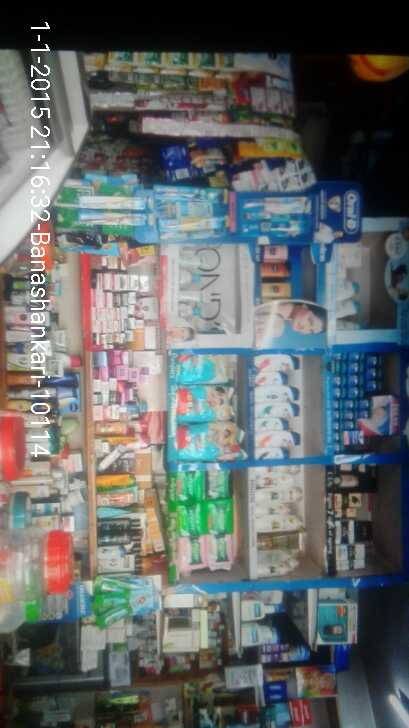beauty: (330, 462, 377, 494), (251, 381, 302, 404), (252, 348, 298, 371), (258, 487, 311, 506), (250, 430, 301, 446), (250, 403, 302, 418), (253, 465, 300, 481), (254, 517, 299, 531), (254, 444, 290, 461), (249, 418, 293, 430), (255, 504, 293, 517), (251, 370, 286, 383), (337, 521, 354, 546), (358, 521, 373, 543), (335, 495, 360, 507)
pharmacy: (170, 422, 245, 460), (167, 385, 239, 421), (56, 186, 152, 212), (171, 349, 240, 383), (159, 214, 226, 238), (149, 184, 229, 203), (203, 532, 242, 569), (202, 498, 237, 537), (204, 466, 235, 504), (173, 459, 199, 501), (173, 535, 204, 569), (168, 502, 200, 531), (344, 429, 365, 447), (364, 378, 383, 392), (365, 366, 384, 379), (366, 355, 382, 364), (358, 397, 370, 408), (358, 406, 367, 417)
